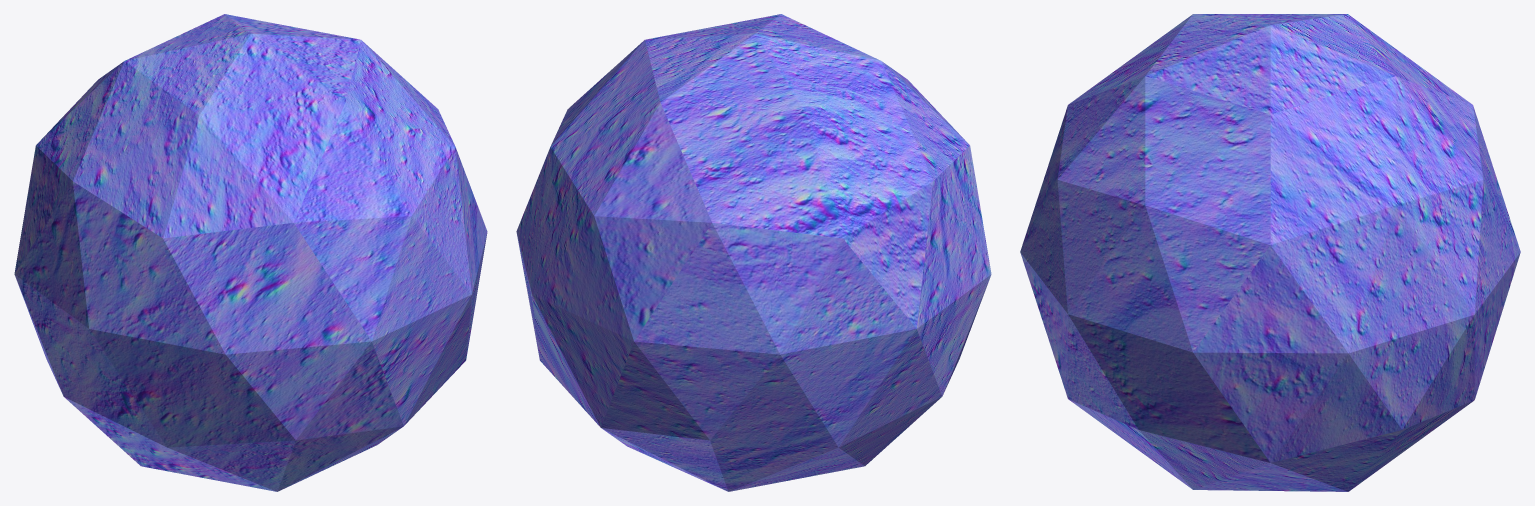
The model's file is mediumasteroid10_LOD4.fbx.
The picture shows the model from 3 angles, left to right: view 1: azimuth 30°, elevation 25°; view 2: azimuth 150°, elevation 25°; view 3: azimuth 270°, elevation 25°; orthographic projection. The views are drawn at different scales.
Visible parts, largest first — view 1: Icosphere; view 2: Icosphere; view 3: Icosphere.
Boxes of the visible parts, x1,y1,x2,y2 form: Icosphere: (14,14,487,491); Icosphere: (516,14,991,491); Icosphere: (1020,14,1520,491).
Size of the model in its own units: 191 by 200 by 200.
